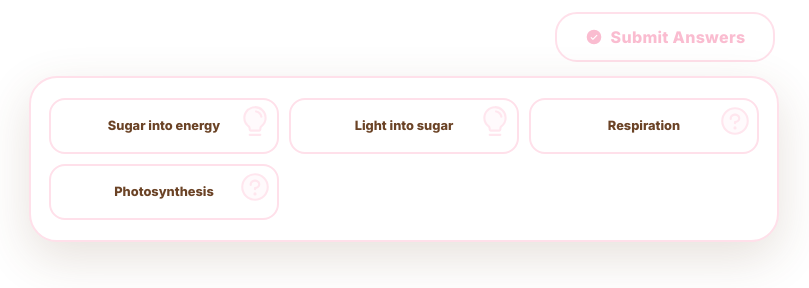
Scenario: MatchAndTreat submit lockout › still gates Submit until every card is paired
Expected: the button "Submit Answers" is disabled, [555,12,775,62]
Click the button "Photosynthesis".
click(164, 192)  # box [49,164,279,220]
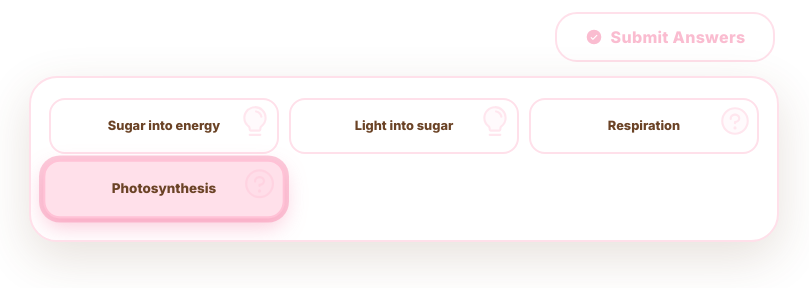
Click the button "Light into sugar".
click(404, 126)  # box [289,98,519,154]
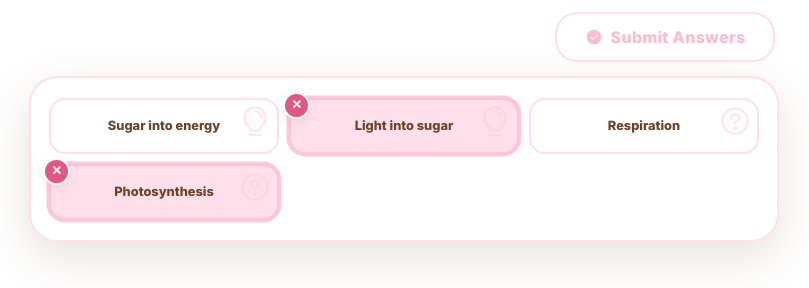
Expected: the button "Submit Answers" is disabled, [555,12,775,62]
Click the button "Respiration".
click(644, 126)  # box [529,98,759,154]
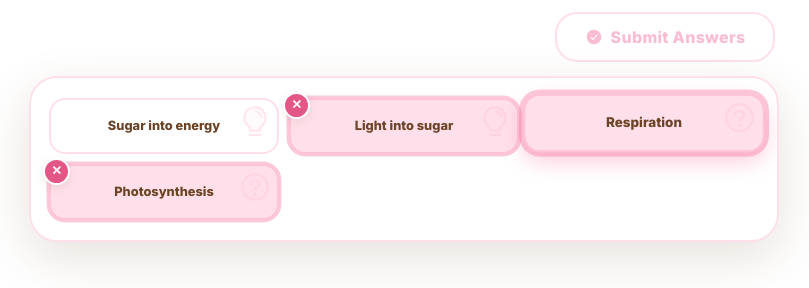
Click the button "Sugar into energy".
click(164, 126)  # box [49,98,279,154]
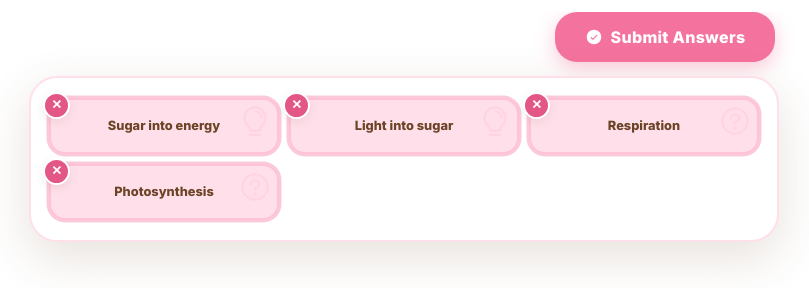
Now the button "Submit Answers" is enabled, box [555,12,775,62]
